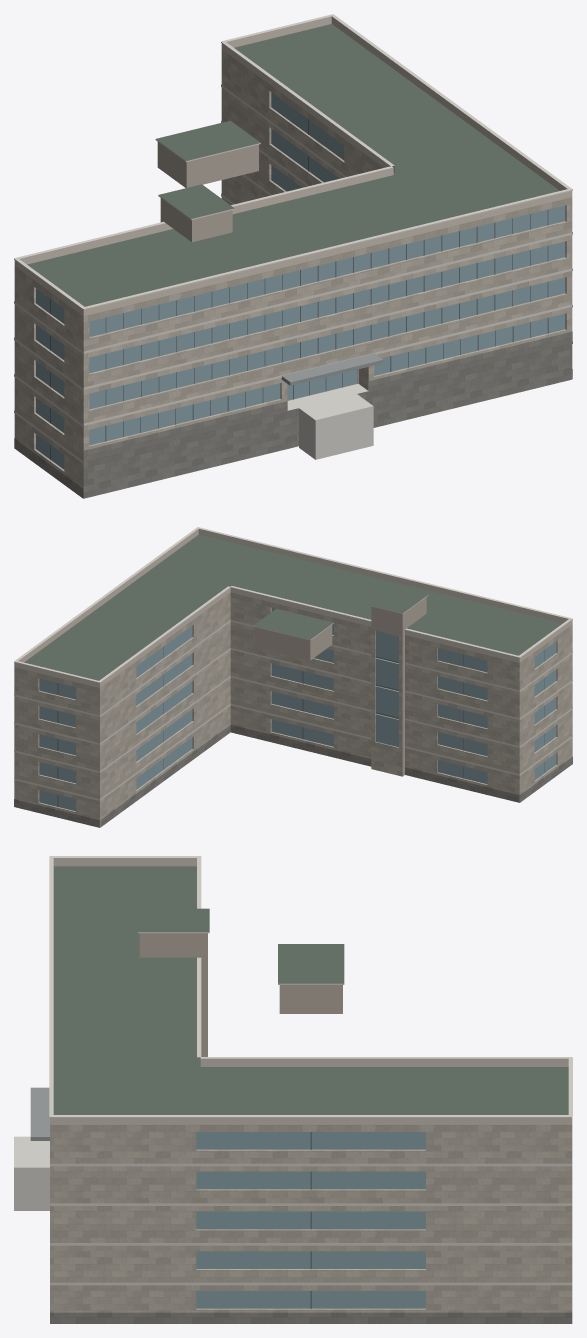
3 views of the same model, one above another, from view 1: azimuth 30°, elevation 25°; view 2: azimuth 150°, elevation 25°; view 3: azimuth 270°, elevation 25° (orthographic). The views are drawn at different scales.
Visible parts, largest first — view 1: b919B__wall, b919B__roof, b919B__glass, b919B__base, b919B__trim, b919B__parapet, b919B__entranceStair, b919B__wall2, b919B__frame, b919B__canopy; view 2: b919B__wall, b919B__roof, b919B__glass, b919B__trim, b919B__parapet, b919B__base, b919B__wall2, b919B__frame; view 3: b919B__wall, b919B__roof, b919B__glass, b919B__trim, b919B__parapet, b919B__base, b919B__wall2, b919B__entranceStair, b919B__canopy.
Boxes of the visible parts, box(x1,y1,x2,y2) form: b919B__wall: box(14, 49, 572, 498); b919B__roof: box(27, 24, 569, 498); b919B__glass: box(36, 92, 565, 469); b919B__base: box(14, 331, 572, 498); b919B__trim: box(14, 14, 572, 462); b919B__parapet: box(14, 16, 572, 316); b919B__entranceStair: box(287, 384, 373, 459); b919B__wall2: box(157, 142, 258, 242); b919B__frame: box(50, 119, 548, 459); b919B__canopy: box(281, 353, 383, 385); b919B__wall: box(14, 592, 572, 827); b919B__roof: box(24, 534, 562, 680); b919B__glass: box(39, 608, 556, 811); b919B__trim: box(14, 527, 572, 800); b919B__parapet: box(14, 529, 572, 687); b919B__base: box(14, 724, 572, 827); b919B__wall2: box(254, 597, 426, 776); b919B__frame: box(57, 646, 544, 806); b919B__wall: box(50, 1125, 572, 1312); b919B__roof: box(53, 866, 568, 1114); b919B__glass: box(196, 1132, 425, 1308); b919B__trim: box(49, 856, 572, 1285); b919B__parapet: box(50, 858, 572, 1124); b919B__base: box(50, 1312, 572, 1323); b919B__wall2: box(139, 933, 342, 1056); b919B__entranceStair: box(14, 1136, 49, 1210); b919B__canopy: box(30, 1087, 49, 1140).
Bounding box in the file's own units: 50.66 × 21.32 × 45.89.
11 materials, 2 textured.
